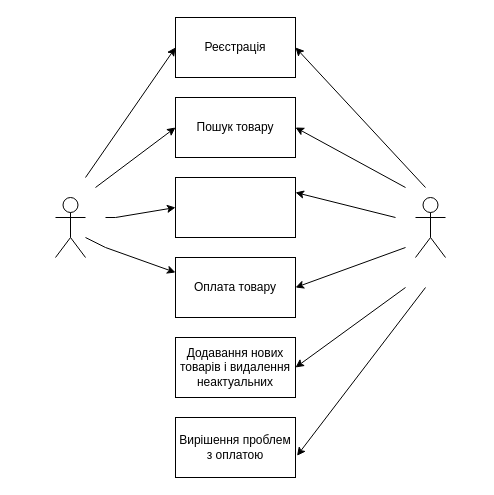
Image size: 494x495. Some labels were removed from this diagram. The shapes that lost their labels are listed below. From the top down, each one's centre as x and y in pixels, then its label:
At point 70,227: "Користувач сайтом".
At point 235,207: "Додавання товару у корзину".
At point 430,227: "Підтримка сайту".
